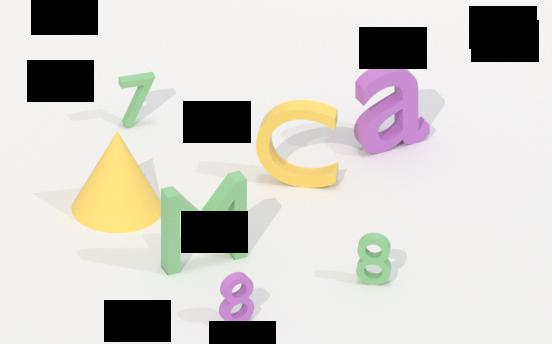7: (112, 70, 161, 129)
8: (213, 270, 260, 327), (351, 231, 396, 289)
M-hoa: (160, 167, 248, 278)
a: (346, 67, 435, 151)
c: (248, 100, 347, 192)
non: (64, 135, 166, 234)
